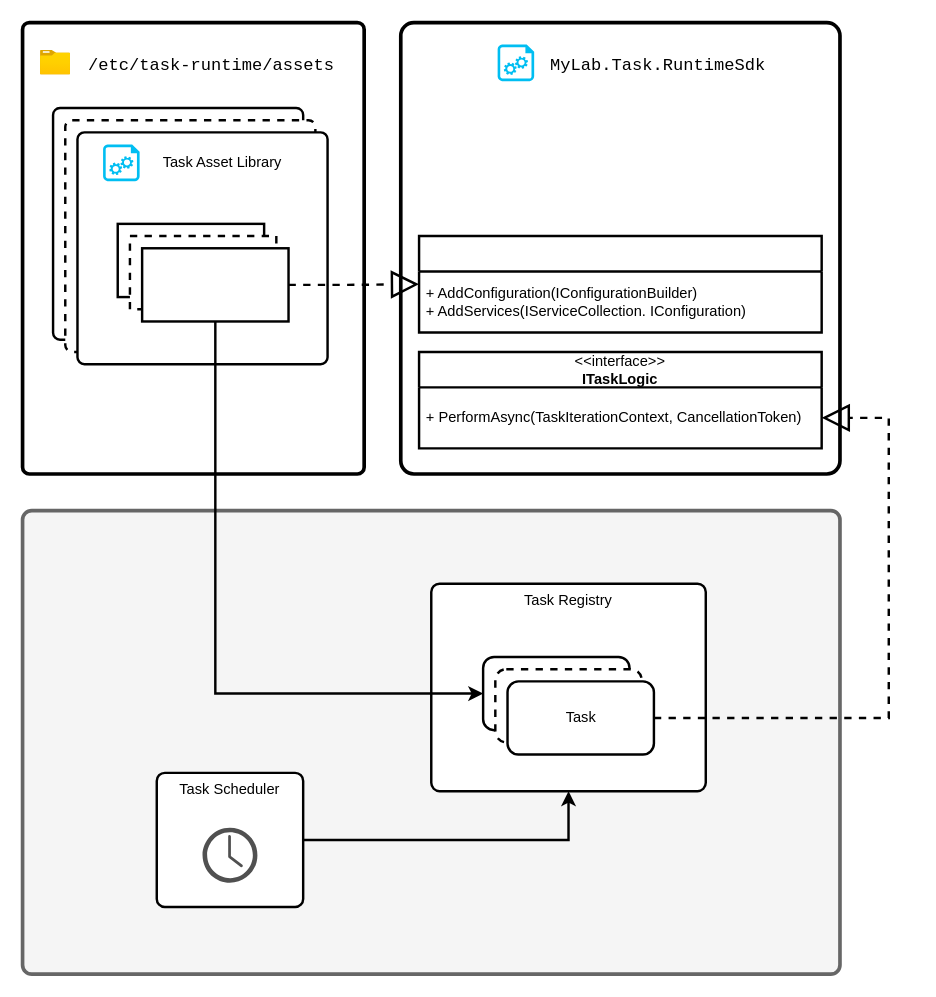
Image size: 936x997. Some labels were removed from this diagram. The box of each missing label's shape, as (x1, y1, x2, y2) in pixels:
<<interface>> ITaskStartup: (417, 234, 822, 333)
MyLab.Task.Runtime: (20, 508, 841, 975)
TaskStartup: (140, 246, 289, 322)
